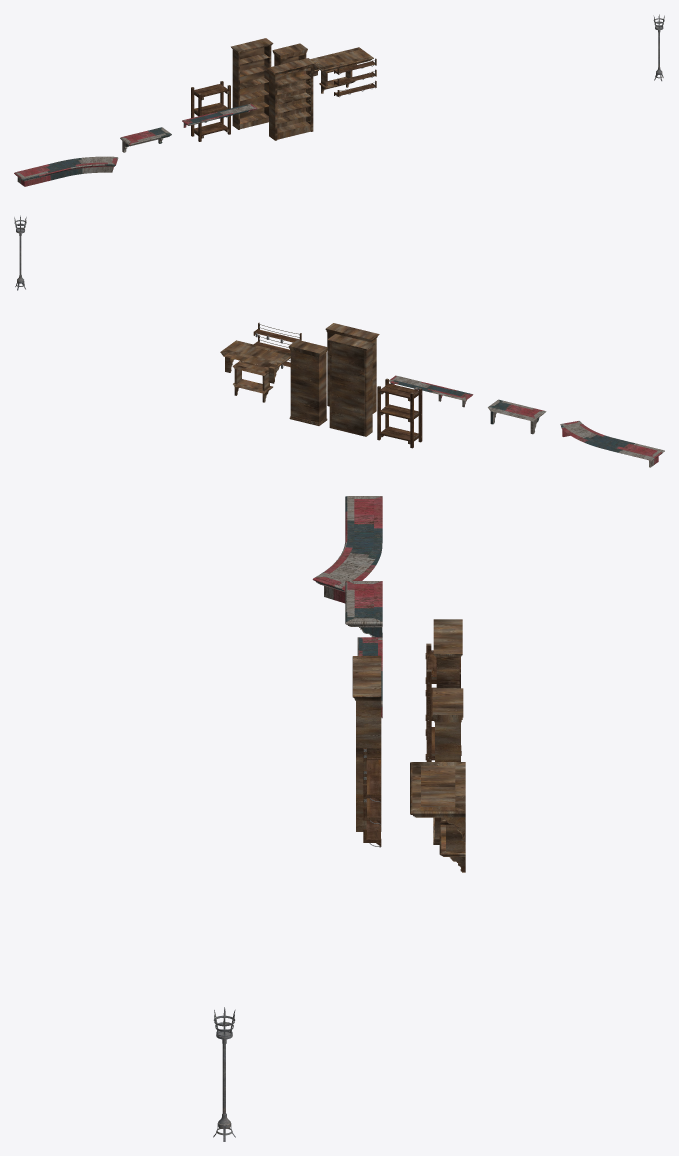
The model's file is enc_int_monlight.glb.
The picture shows the model from 3 angles, top to bottom: view 1: azimuth 30°, elevation 25°; view 2: azimuth 150°, elevation 25°; view 3: azimuth 270°, elevation 25°; orthographic projection. The views are drawn at different scales.
Visible parts, largest first — view 1: KB3D_ECI_PropShelf_F_Main, KB3D_ECI_PropShelf_B_Main, KB3D_ECI_PropShelf_I_Main, KB3D_ECI_PropShelf_A_Main, KB3D_ECI_PropShelf_D_Main, KB3D_ECI_PropShelf_E_Main, KB3D_ECI_PropShelf_H_Main, KB3D_ECI_PropShelf_G_Main, KB3D_ECI_PropShelf_C_Main; view 2: KB3D_ECI_PropShelf_B_Main, KB3D_ECI_PropShelf_C_Main, KB3D_ECI_PropShelf_D_Main, KB3D_ECI_PropShelf_A_Main, KB3D_ECI_PropShelf_I_Main, KB3D_ECI_PropShelf_F_Main, KB3D_ECI_PropShelf_H_Main, KB3D_ECI_PropShelf_G_Main, KB3D_ECI_PropShelf_E_Main; view 3: KB3D_ECI_PropShelf_D_Main, KB3D_ECI_PropShelf_I_Main, KB3D_ECI_PropShelf_F_Main, KB3D_ECI_PropShelf_C_Main, KB3D_ECI_PropShelf_H_Main, KB3D_ECI_PropShelf_B_Main, KB3D_ECI_PropShelf_E_Main, KB3D_ECI_PropShelf_A_Main, KB3D_ECI_PropStandingLantern_A_Main.
Part boxes in pixels (x1=…): KB3D_ECI_PropShelf_F_Main: x1=267, y1=58, x2=315, y2=140; KB3D_ECI_PropShelf_B_Main: x1=231, y1=38, x2=273, y2=129; KB3D_ECI_PropShelf_I_Main: x1=14, y1=156, x2=118, y2=186; KB3D_ECI_PropShelf_A_Main: x1=191, y1=81, x2=230, y2=141; KB3D_ECI_PropShelf_D_Main: x1=310, y1=47, x2=373, y2=93; KB3D_ECI_PropShelf_E_Main: x1=334, y1=58, x2=376, y2=97; KB3D_ECI_PropShelf_H_Main: x1=120, y1=127, x2=171, y2=152; KB3D_ECI_PropShelf_G_Main: x1=182, y1=103, x2=257, y2=127; KB3D_ECI_PropShelf_C_Main: x1=272, y1=43, x2=307, y2=66; KB3D_ECI_PropShelf_B_Main: x1=327, y1=334, x2=374, y2=436; KB3D_ECI_PropShelf_C_Main: x1=288, y1=340, x2=328, y2=425; KB3D_ECI_PropShelf_D_Main: x1=220, y1=340, x2=290, y2=402; KB3D_ECI_PropShelf_A_Main: x1=377, y1=378, x2=422, y2=448; KB3D_ECI_PropShelf_I_Main: x1=560, y1=421, x2=664, y2=467; KB3D_ECI_PropShelf_F_Main: x1=325, y1=323, x2=379, y2=413; KB3D_ECI_PropShelf_H_Main: x1=488, y1=399, x2=546, y2=434; KB3D_ECI_PropShelf_G_Main: x1=389, y1=375, x2=473, y2=407; KB3D_ECI_PropShelf_E_Main: x1=253, y1=322, x2=301, y2=368; KB3D_ECI_PropShelf_D_Main: x1=410, y1=762, x2=465, y2=872; KB3D_ECI_PropShelf_I_Main: x1=312, y1=496, x2=382, y2=603; KB3D_ECI_PropShelf_F_Main: x1=352, y1=656, x2=381, y2=831; KB3D_ECI_PropShelf_C_Main: x1=432, y1=688, x2=463, y2=844; KB3D_ECI_PropShelf_H_Main: x1=345, y1=581, x2=382, y2=637; KB3D_ECI_PropShelf_B_Main: x1=433, y1=619, x2=462, y2=688; KB3D_ECI_PropShelf_E_Main: x1=363, y1=748, x2=381, y2=847; KB3D_ECI_PropShelf_A_Main: x1=425, y1=643, x2=461, y2=761; KB3D_ECI_PropStandingLantern_A_Main: x1=213, y1=1007, x2=235, y2=1141.
Size of the model in its own units: 19.76 by 2.44 by 3.54.
Materials: 6 (6 with a texture image).
